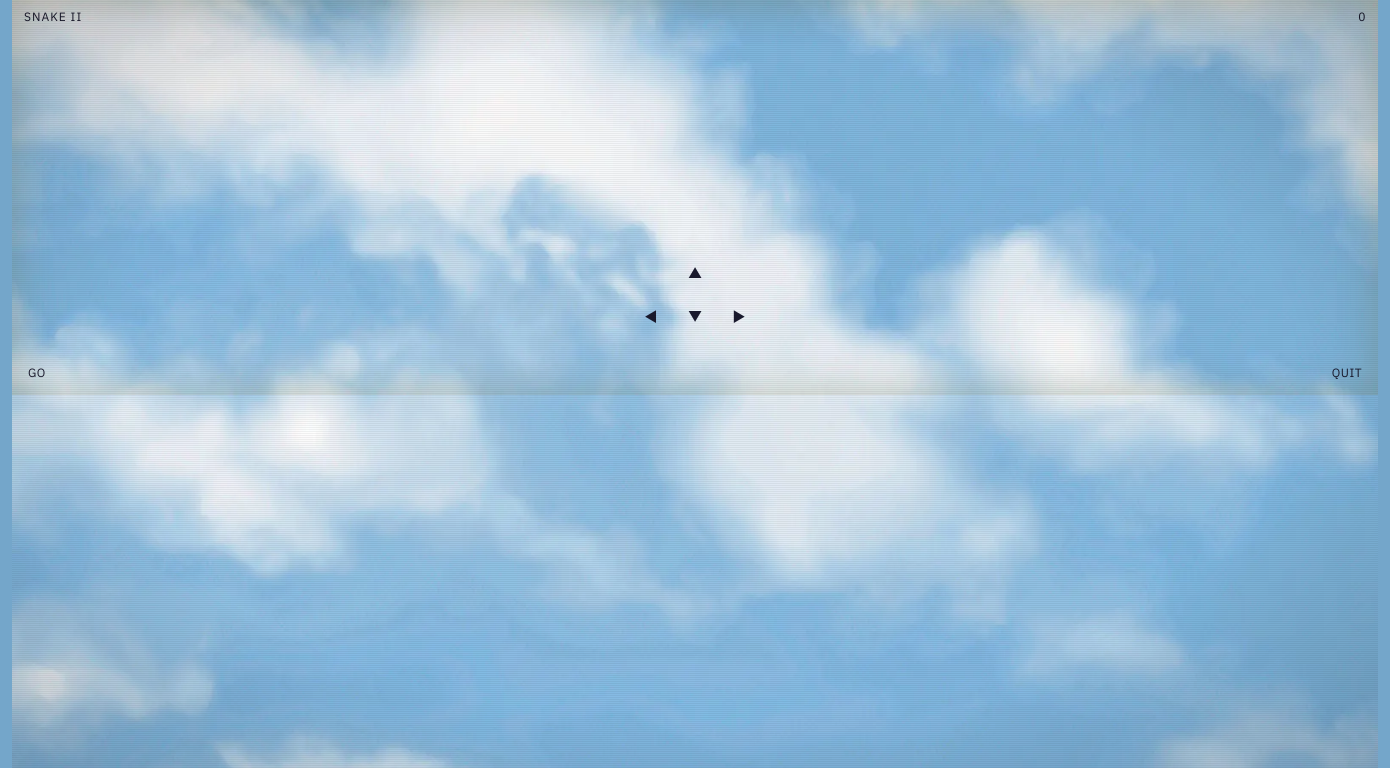
Test: SnakeII › shows a game-over banner with Retry once the snake dies
Click the button "Go" at {"x": 44, "y": 373}, box [12,351,76,395]
Wait 2800 ms
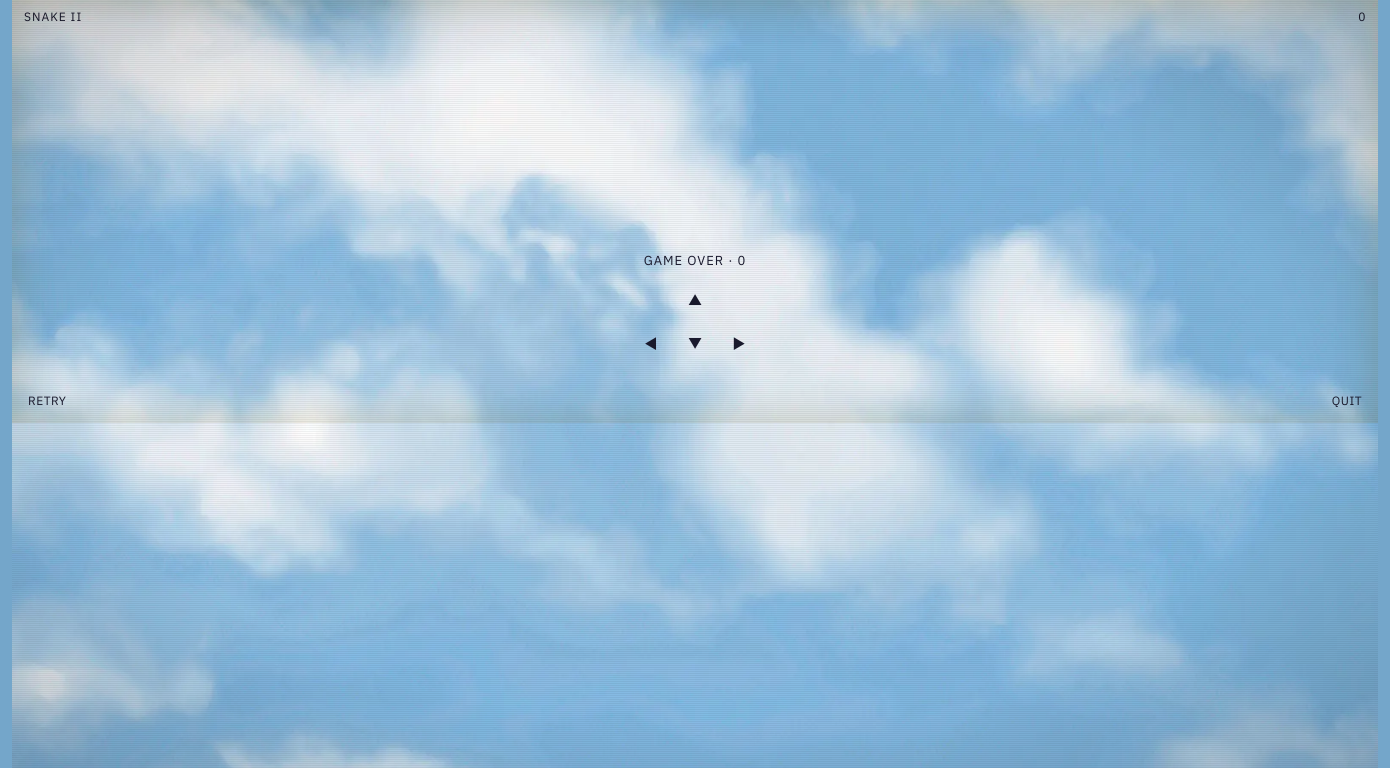
Result: the message shows "GAME OVER" at [644,252,724,269]
Result: the button "Retry" is shown at [12,378,82,422]
